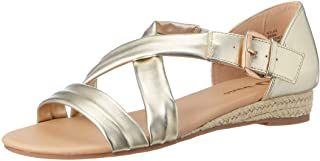shoes: (1, 1, 320, 161)
